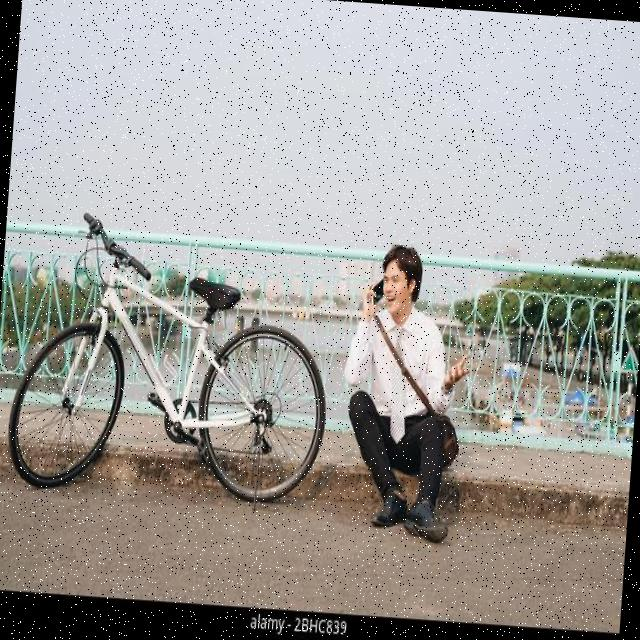Using mobile: (337, 235, 464, 358)
